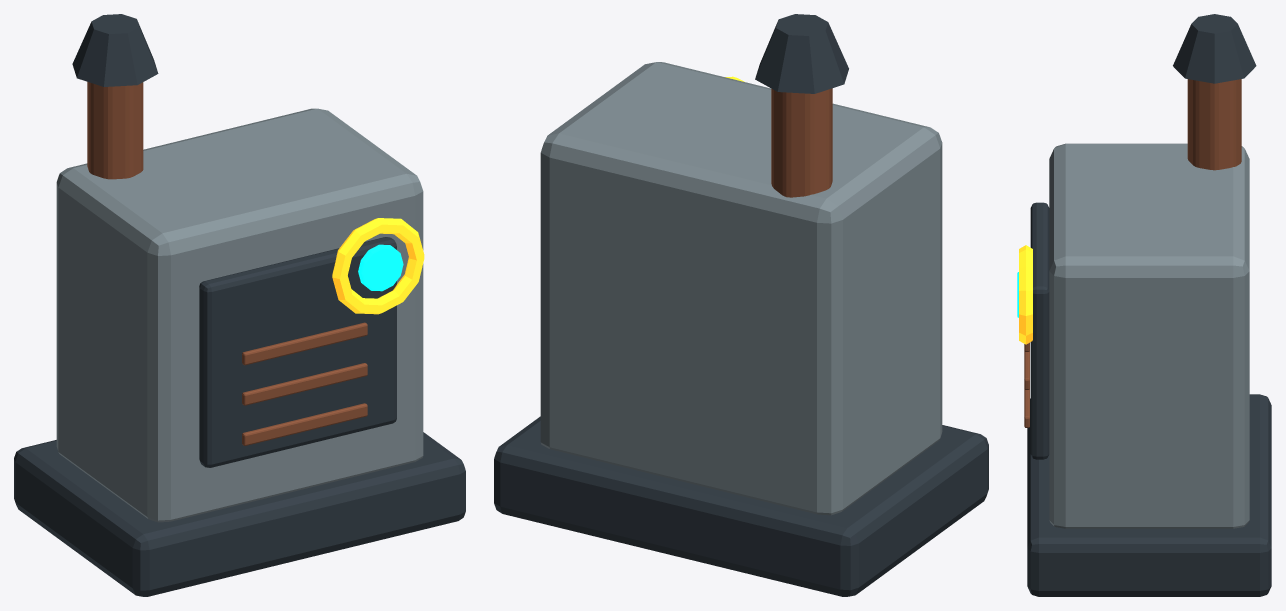
Rendered from Machine-Unit.glb.
The picture shows the model from 3 angles, left to right: view 1: azimuth 30°, elevation 25°; view 2: azimuth 150°, elevation 25°; view 3: azimuth 270°, elevation 25°; orthographic projection. The views are drawn at different scales.
Parts seen in each view (by area): view 1: Machine_Body, Machine_Base, Machine_FrontPanel, Machine_Exhaust, Machine_ExhaustCap, Machine_Gauge, Machine_Vent_2, Machine_Vent_1, Machine_Vent_0, Machine_GaugeCore; view 2: Machine_Body, Machine_Base, Machine_Exhaust, Machine_ExhaustCap; view 3: Machine_Body, Machine_Base, Machine_FrontPanel, Machine_Exhaust, Machine_ExhaustCap, Machine_Gauge.
Boxes of the visible parts, x1,y1,x2,y2 form: Machine_Body: (56,108,423,522); Machine_Base: (14,432,465,596); Machine_FrontPanel: (199,237,396,467); Machine_Exhaust: (87,82,143,179); Machine_ExhaustCap: (72,14,158,86); Machine_Gauge: (332,218,424,314); Machine_Vent_2: (242,322,367,365); Machine_Vent_1: (242,363,367,405); Machine_Vent_0: (242,403,367,445); Machine_GaugeCore: (358,244,403,291); Machine_Body: (540,62,942,515); Machine_Base: (494,416,988,596); Machine_Exhaust: (771,88,832,197); Machine_ExhaustCap: (755,14,848,93); Machine_Body: (1049,143,1249,528); Machine_Base: (1027,394,1271,596); Machine_FrontPanel: (1030,202,1049,459); Machine_Exhaust: (1187,79,1241,170); Machine_ExhaustCap: (1173,14,1256,83); Machine_Gauge: (1019,245,1032,344).
Bounding box in the file's own units: 1.55 × 2.18 × 1.09.
